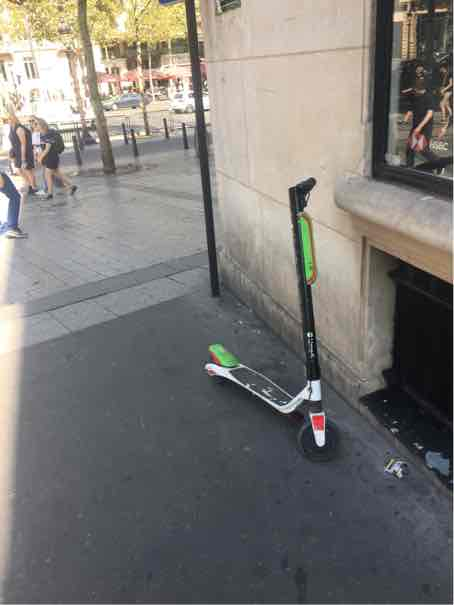scooter: (195, 156, 333, 468)
